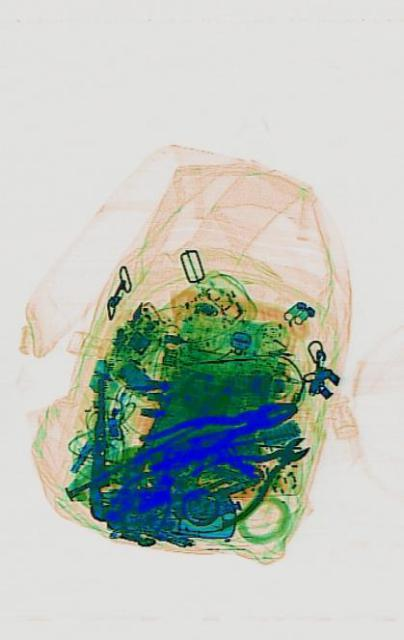Pliers: (185, 407, 315, 539), (136, 380, 298, 478)
